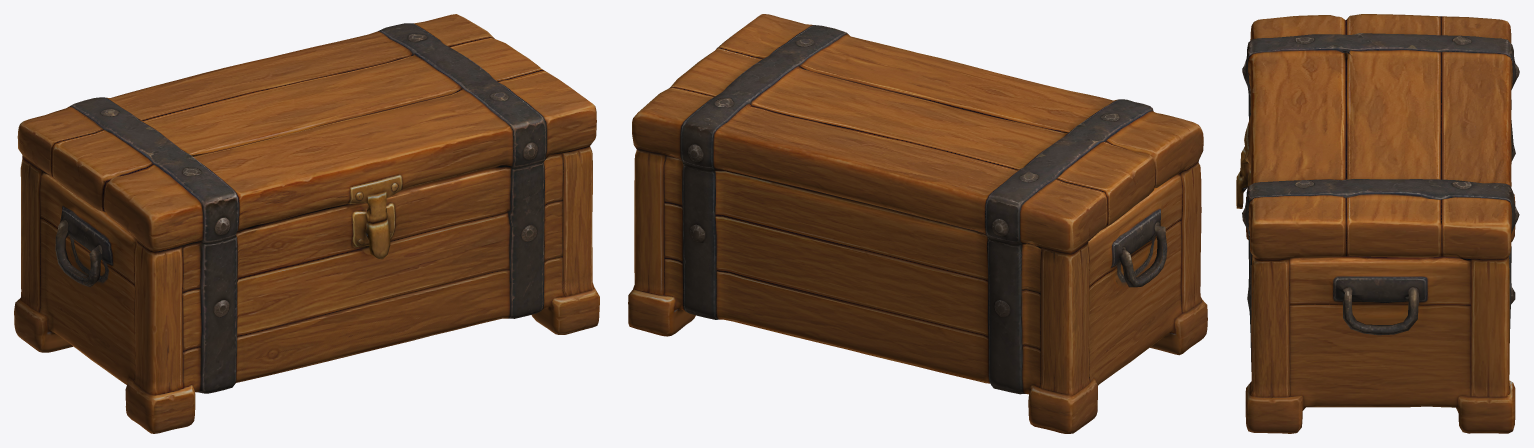
Rendered from home_chest.glb.
3 views of the same model, side by side, from view 1: azimuth 30°, elevation 25°; view 2: azimuth 150°, elevation 25°; view 3: azimuth 270°, elevation 25° (orthographic). The views are drawn at different scales.
Parts seen in each view (by area): view 1: tripo_node_c4a26a78; view 2: tripo_node_c4a26a78; view 3: tripo_node_c4a26a78.
Part boxes in pixels (bbox=[...]): tripo_node_c4a26a78: bbox=[14, 14, 599, 433]; tripo_node_c4a26a78: bbox=[628, 14, 1207, 433]; tripo_node_c4a26a78: bbox=[1236, 14, 1519, 433].
Size of the model in its own units: 97.83 by 45.73 by 53.07.
Materials: 1 (1 with a texture image).
